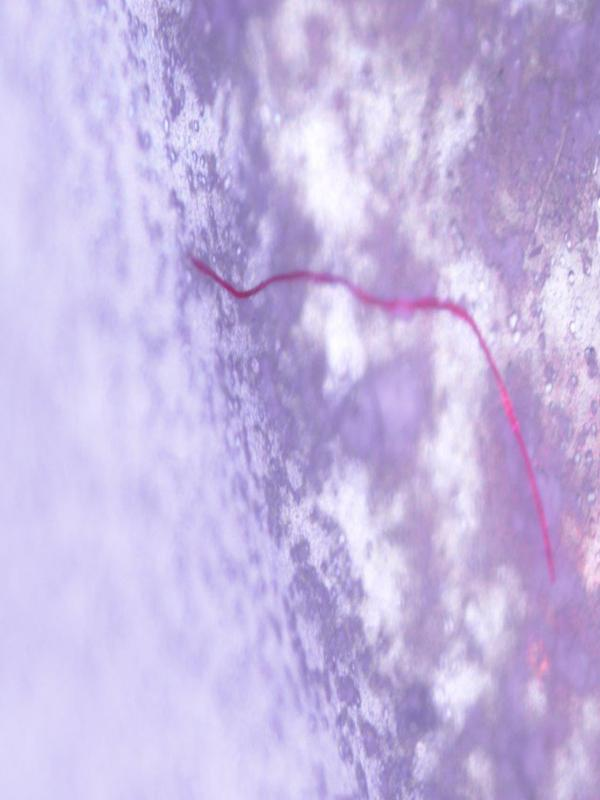microplastic: (188, 250, 556, 586)
